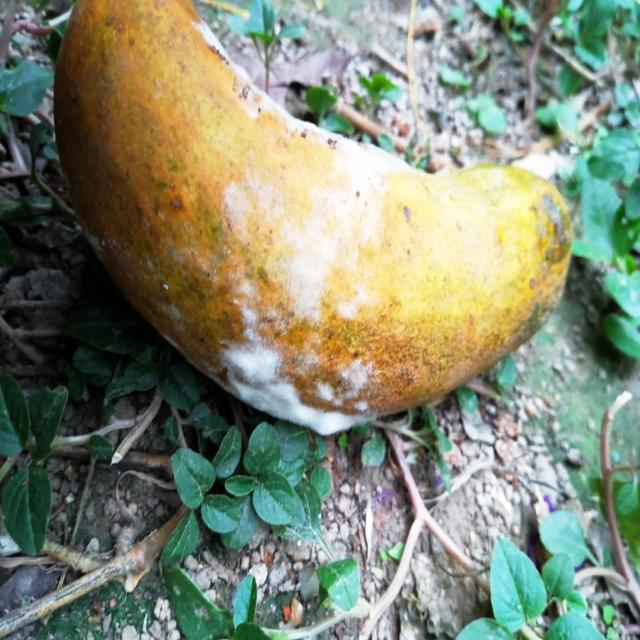Pythium-Fruit-Rot: (199, 21, 409, 439)
